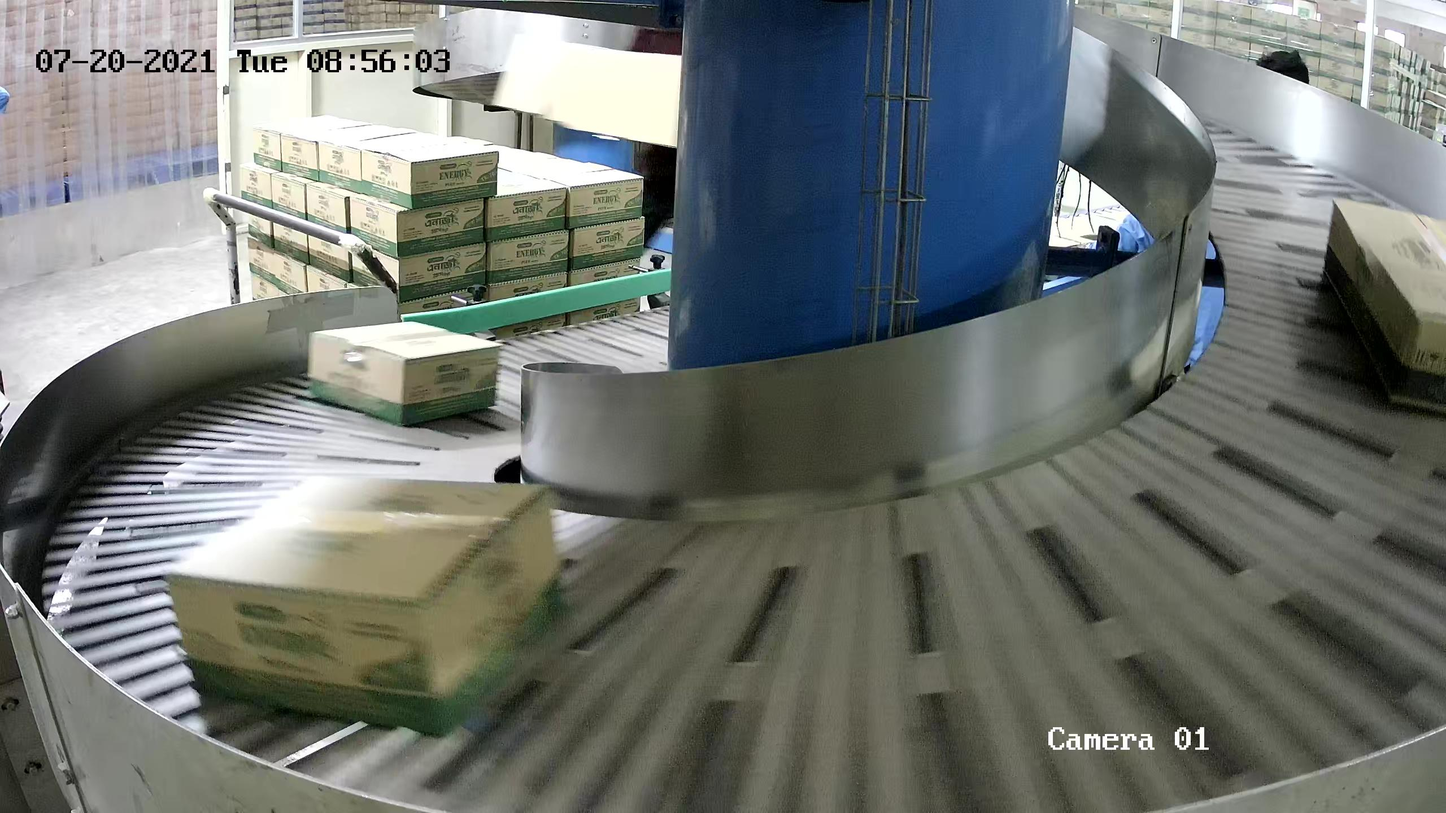Box: (160, 472, 571, 739), (1323, 195, 1446, 411), (308, 320, 503, 427)
